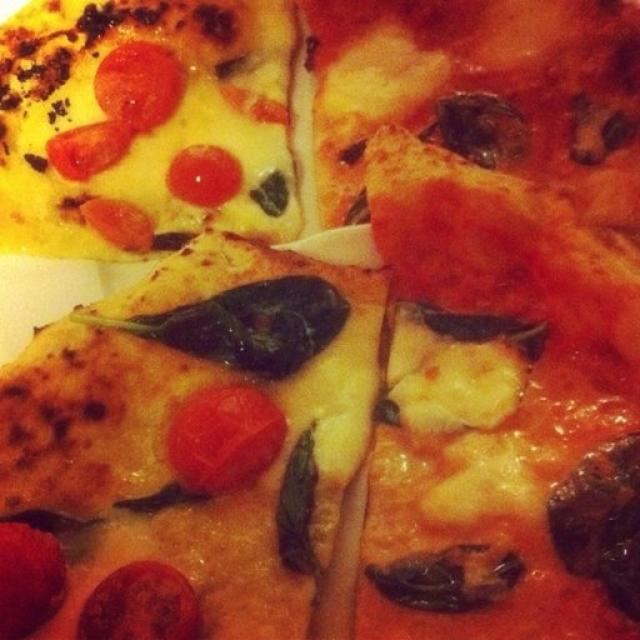Basil: (96, 272, 343, 364), (563, 438, 640, 603), (412, 298, 550, 364), (374, 555, 528, 611), (435, 91, 528, 163), (290, 425, 321, 567), (2, 498, 92, 528), (121, 484, 214, 511), (264, 168, 290, 214), (160, 230, 191, 247)
Pizza: (0, 225, 389, 640), (360, 123, 640, 640), (0, 0, 306, 266), (297, 0, 640, 231)
Tomato: (168, 386, 284, 493), (82, 563, 196, 640), (98, 41, 184, 129), (0, 523, 60, 635), (178, 139, 243, 215), (49, 124, 135, 180), (85, 196, 156, 252)
